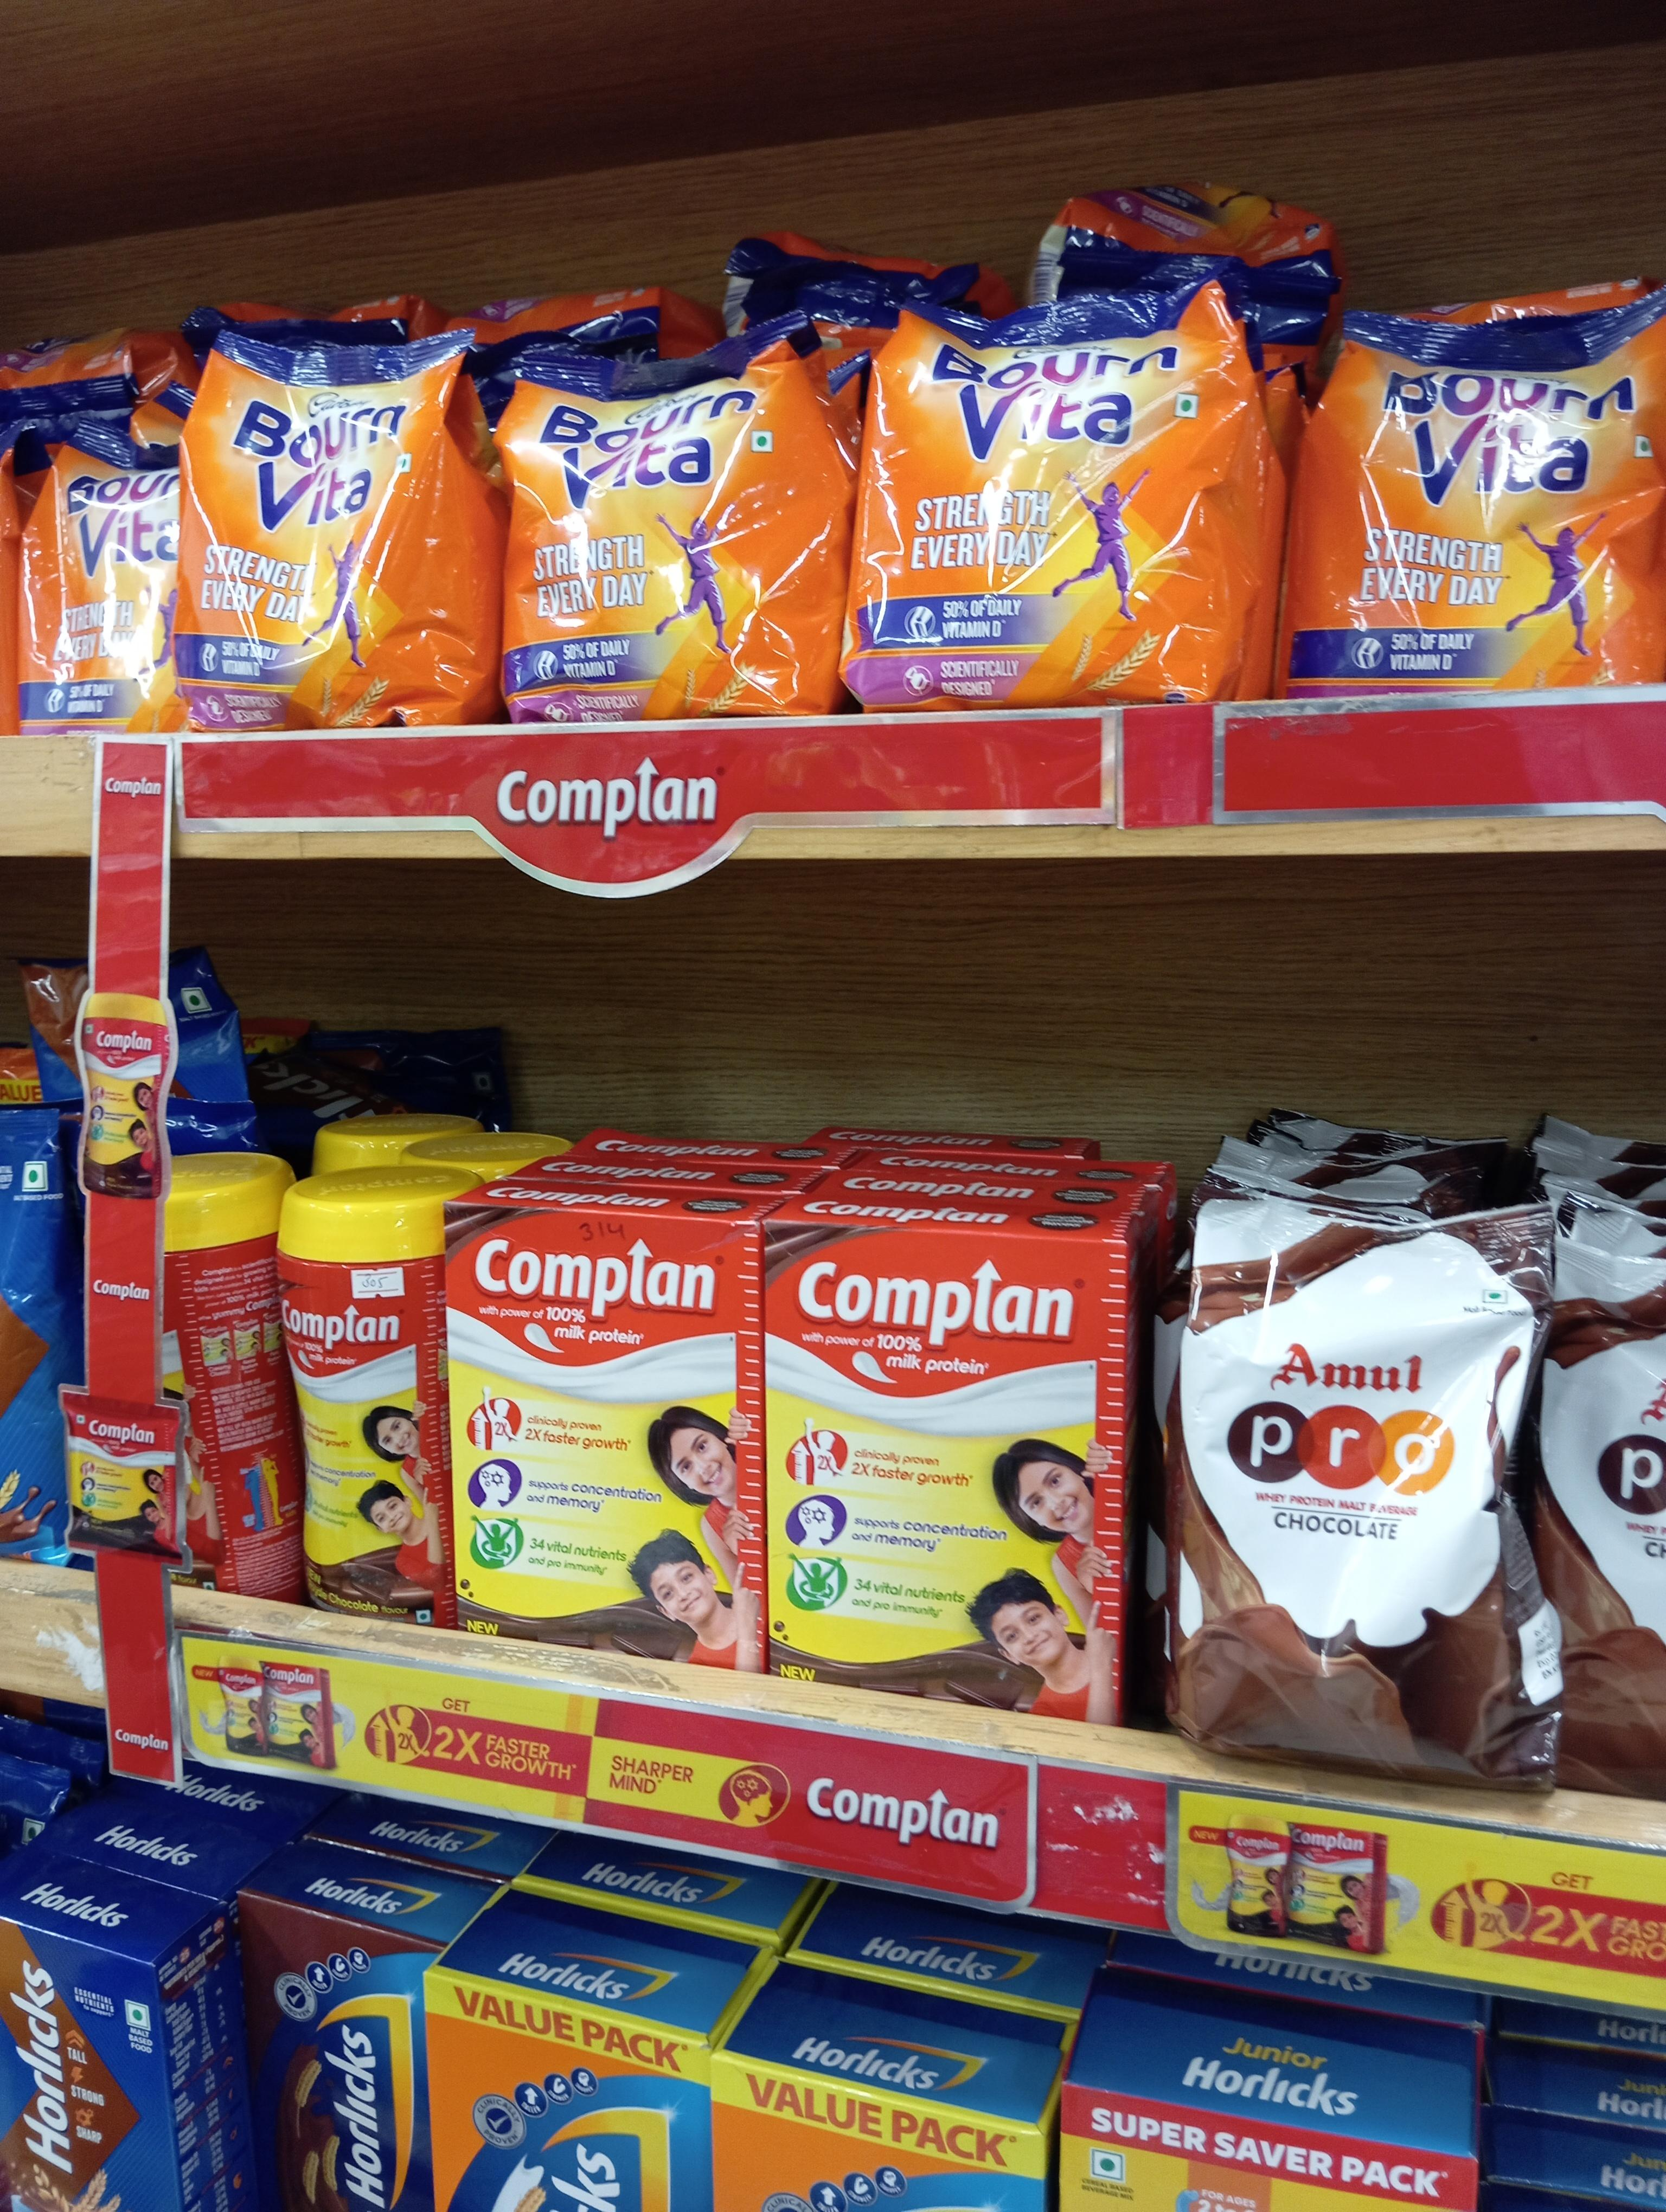BOURN_VITA_500_G_POUCH: (859, 268, 1260, 705), (1302, 299, 1666, 685), (189, 322, 483, 727), (501, 353, 828, 710)
COMPLAN_CHOCOLATE_500_GMS_JAR: (283, 1184, 436, 1609)
COMPLAN_CHOCOLATE_500_GMS_PACK: (766, 1215, 1123, 1715), (446, 1201, 758, 1658)
